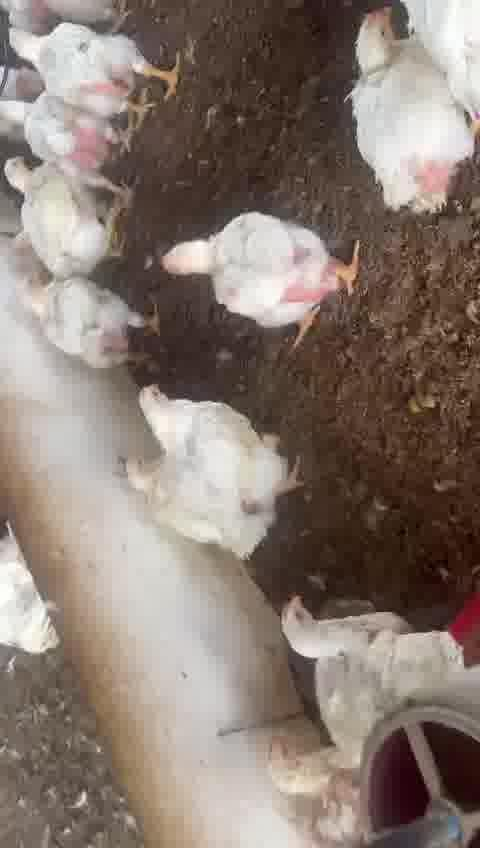AbNormal: (349, 9, 470, 193)
Normal: (164, 212, 359, 333), (280, 592, 470, 703), (139, 379, 306, 503), (124, 449, 293, 553), (9, 30, 182, 118), (2, 157, 132, 266), (19, 275, 153, 370)
